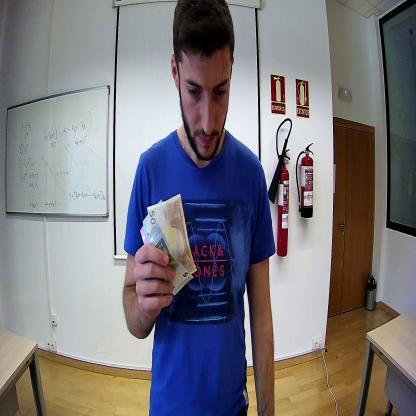billete: (140, 192, 198, 296), (144, 223, 194, 296)
